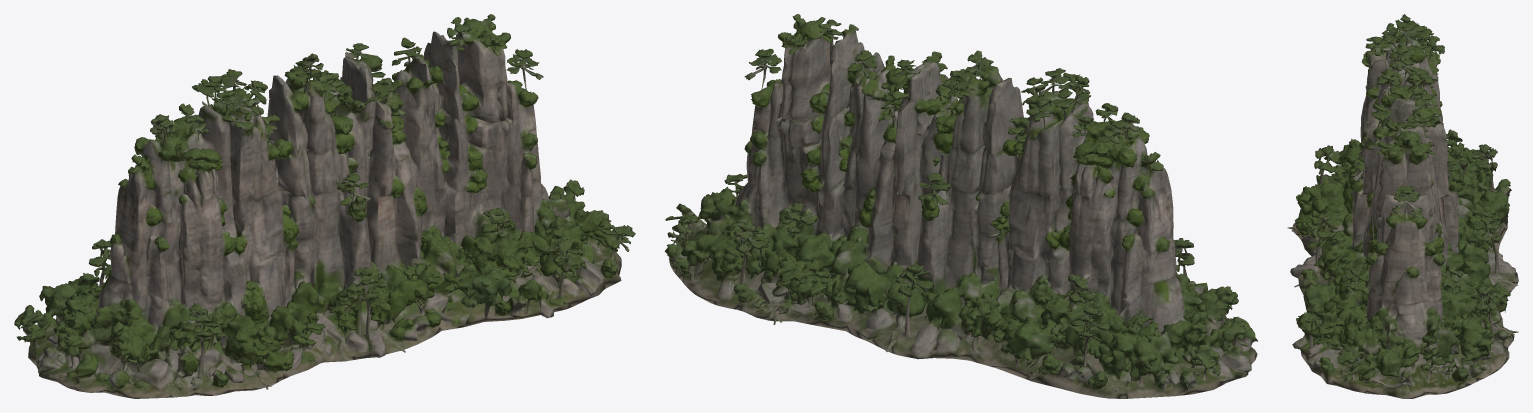
The model's file is av_ridge_mid.glb.
3 renders of one model, left to right at view 1: azimuth 30°, elevation 25°; view 2: azimuth 150°, elevation 25°; view 3: azimuth 270°, elevation 25°, orthographic. The views are drawn at different scales.
Parts seen in each view (by area): view 1: av_ridge; view 2: av_ridge; view 3: av_ridge.
Boxes of the visible parts, <box> form: av_ridge: <box>14,14,635,398</box>; av_ridge: <box>664,14,1257,398</box>; av_ridge: <box>1287,14,1518,398</box>.
Size of the model in its own units: 1.9 by 0.8229 by 0.7873.
1 material, 1 textured.
